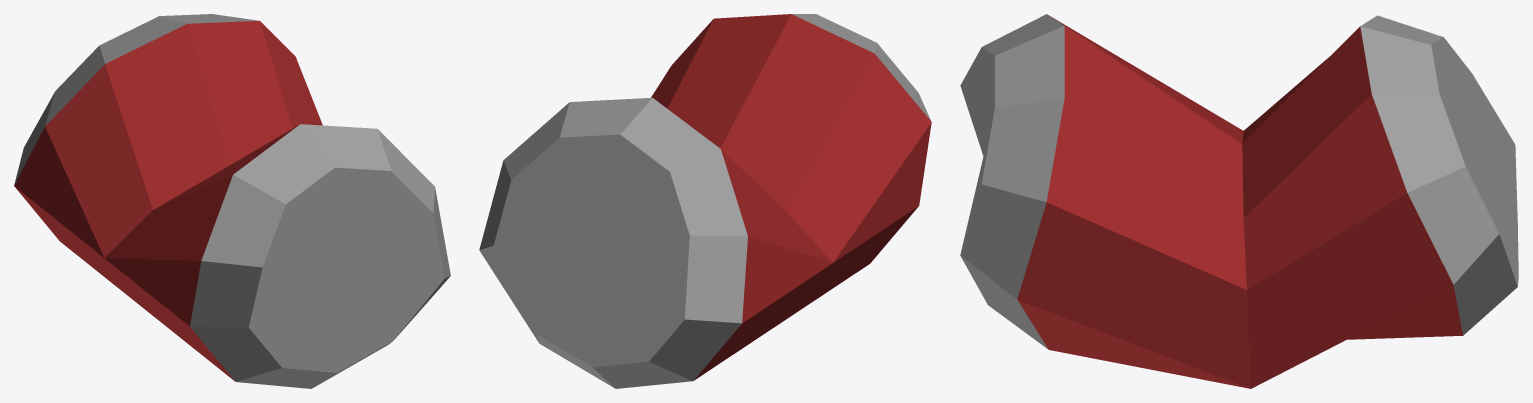
The model's file is can4.fbx.
The picture shows the model from 3 angles, left to right: view 1: azimuth 30°, elevation 25°; view 2: azimuth 150°, elevation 25°; view 3: azimuth 270°, elevation 25°; orthographic projection. The views are drawn at different scales.
Visible parts, largest first — view 1: Cylinder; view 2: Cylinder; view 3: Cylinder.
Part boxes in pixels (<box>): Cylinder: <box>14,14,450,388</box>; Cylinder: <box>479,14,931,388</box>; Cylinder: <box>960,14,1518,388</box>.
Size of the model in its own units: 20.34 by 19.64 by 31.6.
